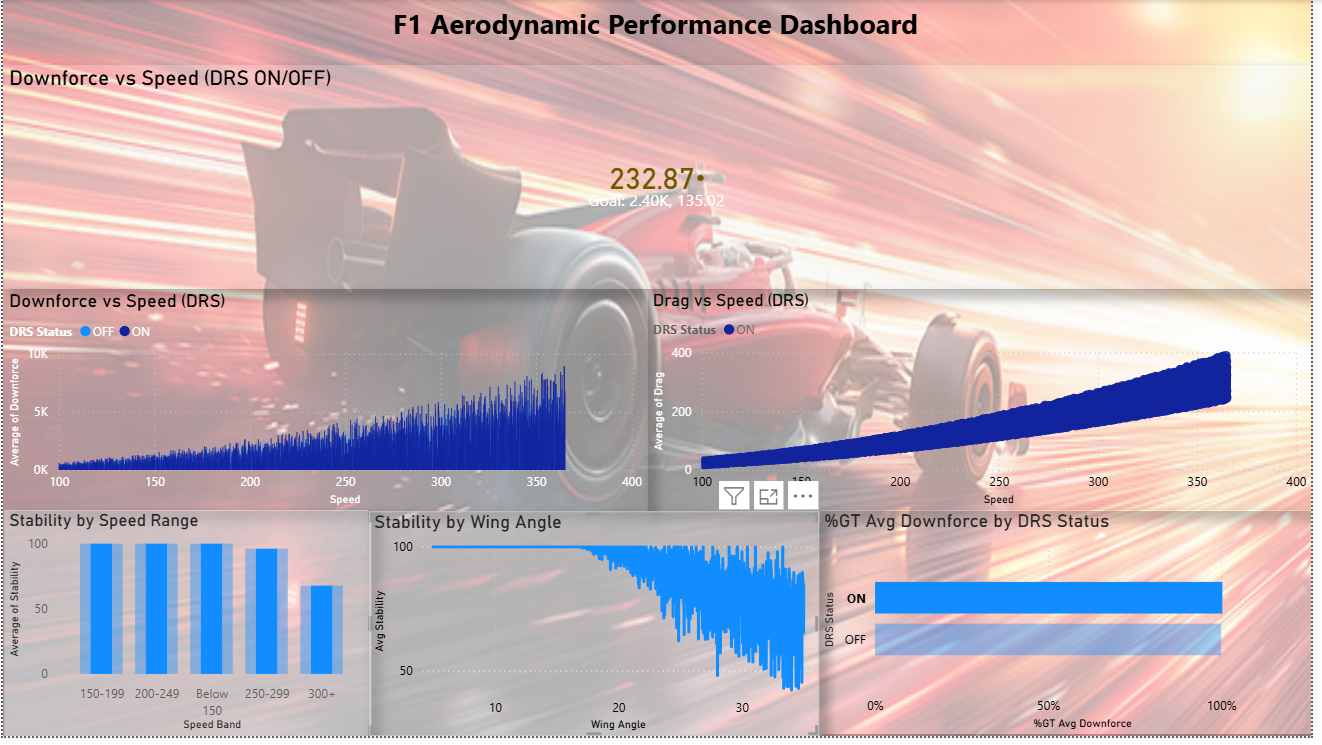

The page's visual inventory and layout, read from the dashboard file:
{"tool":"powerbi","page":{"name":"Page 1","canvas":[1280,720],"ordinal":0},"visuals":[{"type":"kpi","title":"Downforce vs Speed (DRS ON/OFF)","fields":{"TrendLine":["actaruslab_f1_telemetry_2026.DRS Status"],"Indicator":["actaruslab_f1_telemetry_2026.Avg Speed"],"Goal":["actaruslab_f1_telemetry_2026.Avg Downforce","actaruslab_f1_telemetry_2026.Avg Drag"]},"box":[1.2,63.9,1278.8,219.6],"z":0},{"type":"clusteredColumnChart","title":"Downforce vs Speed (DRS)","fields":{"Category":["actaruslab_f1_telemetry_2026.Speed"],"Series":["actaruslab_f1_telemetry_2026.DRS Status"],"Y":["Avg(actaruslab_f1_telemetry_2026.Downforce)"]},"box":[1.2,283.5,629.8,216],"z":1000},{"type":"scatterChart","title":"Drag vs Speed (DRS)","fields":{"Series":["actaruslab_f1_telemetry_2026.DRS Status"],"X":["actaruslab_f1_telemetry_2026.Speed"],"Y":["Avg(actaruslab_f1_telemetry_2026.Drag)"]},"box":[631,283.5,649.1,216],"z":2000},{"type":"barChart","fields":{"Category":["actaruslab_f1_telemetry_2026.DRS Status"],"Y":["actaruslab_f1_telemetry_2026.Avg Downforce"]},"box":[798.7,499.5,481.4,219.6],"z":3000},{"type":"clusteredColumnChart","title":"Stability by Speed Range","fields":{"Y":["Avg(actaruslab_f1_telemetry_2026.Stability)"],"Category":["actaruslab_f1_telemetry_2026.Speed Band"]},"box":[1.2,498.9,359.5,221.3],"z":4000},{"type":"lineChart","title":"Stability by Wing Angle","fields":{"Category":["actaruslab_f1_telemetry_2026.Wing Angle"],"Y":["actaruslab_f1_telemetry_2026.Avg Stability"]},"box":[358.3,500.1,440.2,220.1],"z":5000},{"type":"textbox","box":[100.1,0,1076.1,63.9],"z":6000}]}

Visuals, with their boxes in screenshot pixels (x1, y1, x2, y2), scaled from the page's 1280x720 canvas onto the 1322x745 screenshot:
"Downforce vs Speed (DRS ON/OFF)" kpi: 1,66,1321,293
"Downforce vs Speed (DRS)" clusteredColumnChart: 1,293,652,517
"Drag vs Speed (DRS)" scatterChart: 652,293,1321,517
barChart - actaruslab_f1_telemetry_2026.DRS Status x actaruslab_f1_telemetry_2026.Avg Downforce: 825,517,1321,744
"Stability by Speed Range" clusteredColumnChart: 1,516,373,744
"Stability by Wing Angle" lineChart: 370,517,825,744
textbox: 103,0,1215,66
